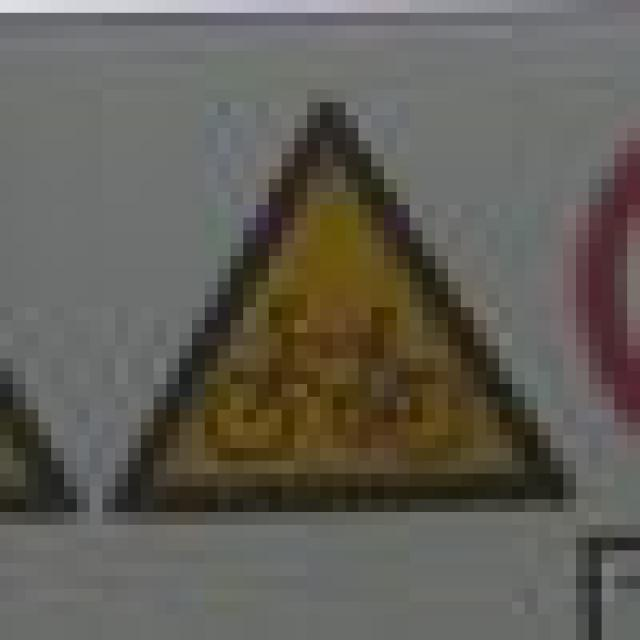CYCLE_CROSSING: (90, 90, 563, 499)
